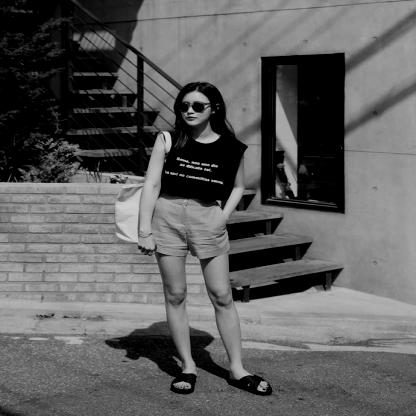jacket: (159, 130, 247, 197), (152, 192, 230, 261)
